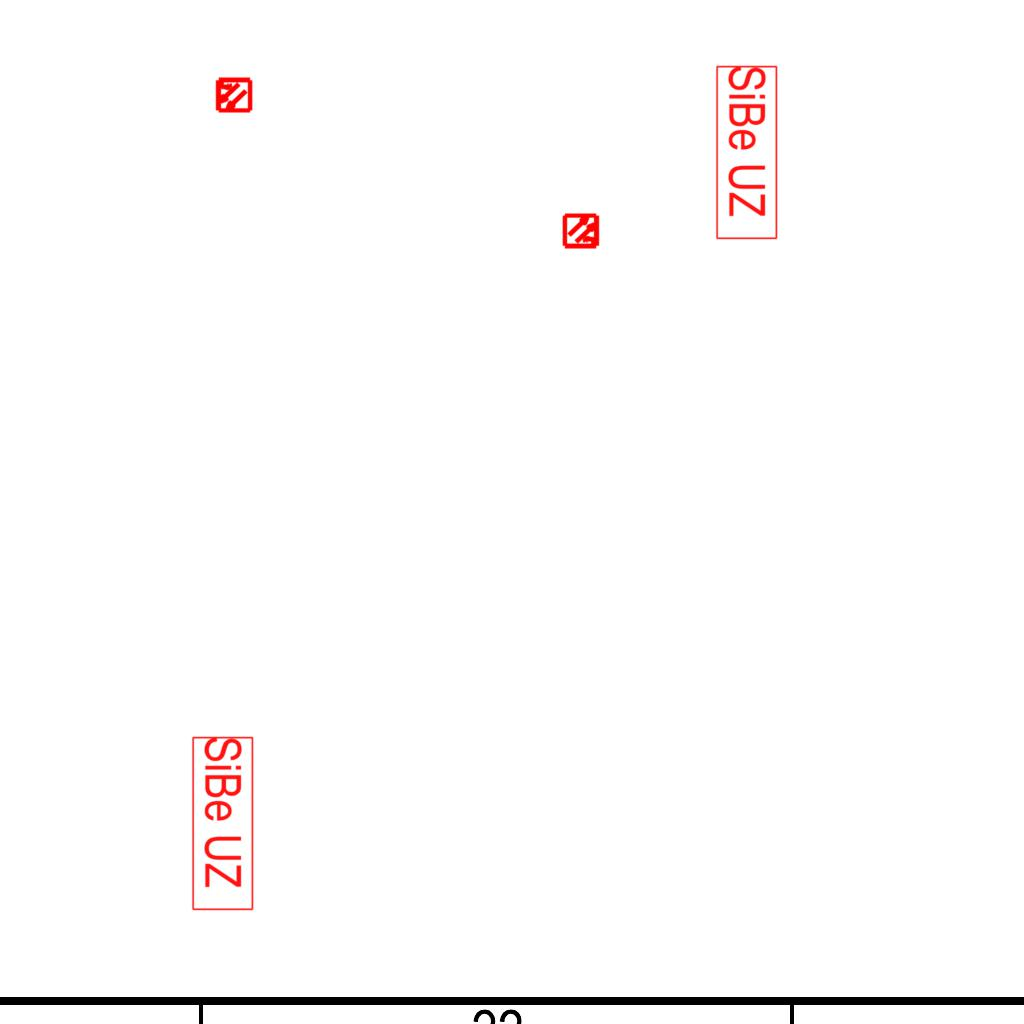OT_Multisensormelder_(Kombination_RMO_WMD): (205, 67, 261, 123), (554, 203, 610, 259)
Zentrale_Sicherheitsbeleuchtung: (714, 64, 779, 242), (190, 735, 255, 913)
